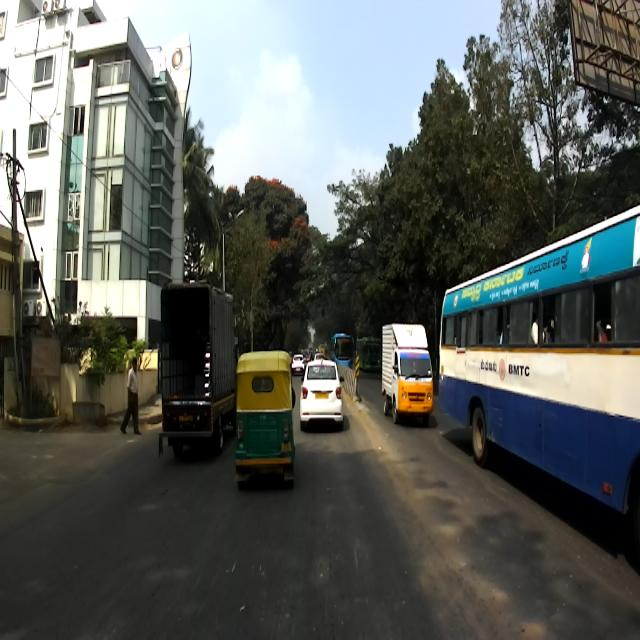auto ahead at: (233, 354, 295, 480)
car ahead at: (300, 356, 346, 434)
person ahead at: (120, 352, 144, 436)
truck ahead at: (156, 280, 234, 455), (378, 321, 434, 424)
